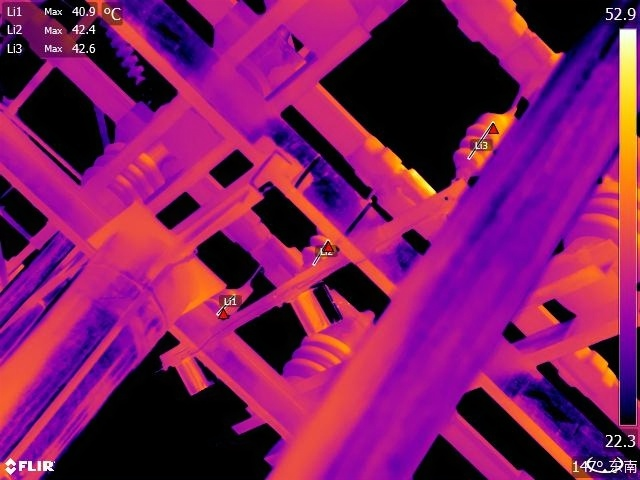insulator: (275, 305, 374, 388), (455, 101, 519, 184), (570, 183, 640, 247), (107, 9, 142, 83)
